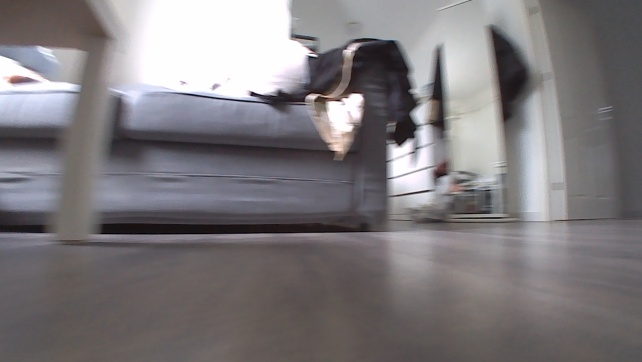door_anno: (520, 0, 624, 226)
sofa1: (0, 34, 392, 233)
